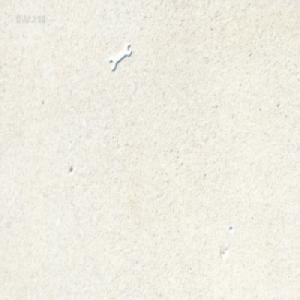Wrench: (109, 43, 131, 71)
